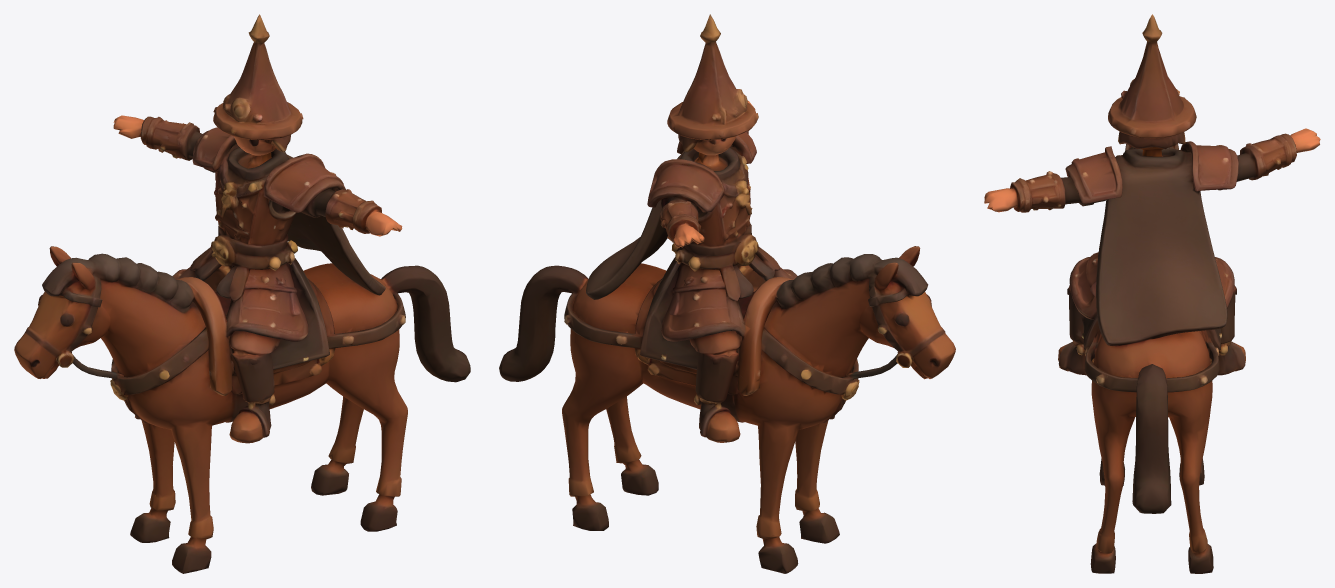
The model's file is bandit_rider.glb.
The picture shows the model from 3 angles, left to right: view 1: azimuth 30°, elevation 25°; view 2: azimuth 150°, elevation 25°; view 3: azimuth 270°, elevation 25°; orthographic projection.
Visible parts, largest first — view 1: tripo_node_ad4b57d3-9a26-41cb-ad42-90036f5f24a2; view 2: tripo_node_ad4b57d3-9a26-41cb-ad42-90036f5f24a2; view 3: tripo_node_ad4b57d3-9a26-41cb-ad42-90036f5f24a2.
Boxes of the visible parts, left/top/right/bottom form: tripo_node_ad4b57d3-9a26-41cb-ad42-90036f5f24a2: left=14, top=14, right=470, bottom=573; tripo_node_ad4b57d3-9a26-41cb-ad42-90036f5f24a2: left=499, top=14, right=955, bottom=573; tripo_node_ad4b57d3-9a26-41cb-ad42-90036f5f24a2: left=984, top=14, right=1320, bottom=573.
Size of the model in its own units: 0.8994 by 1 by 0.5983.
1 material, 1 textured.
